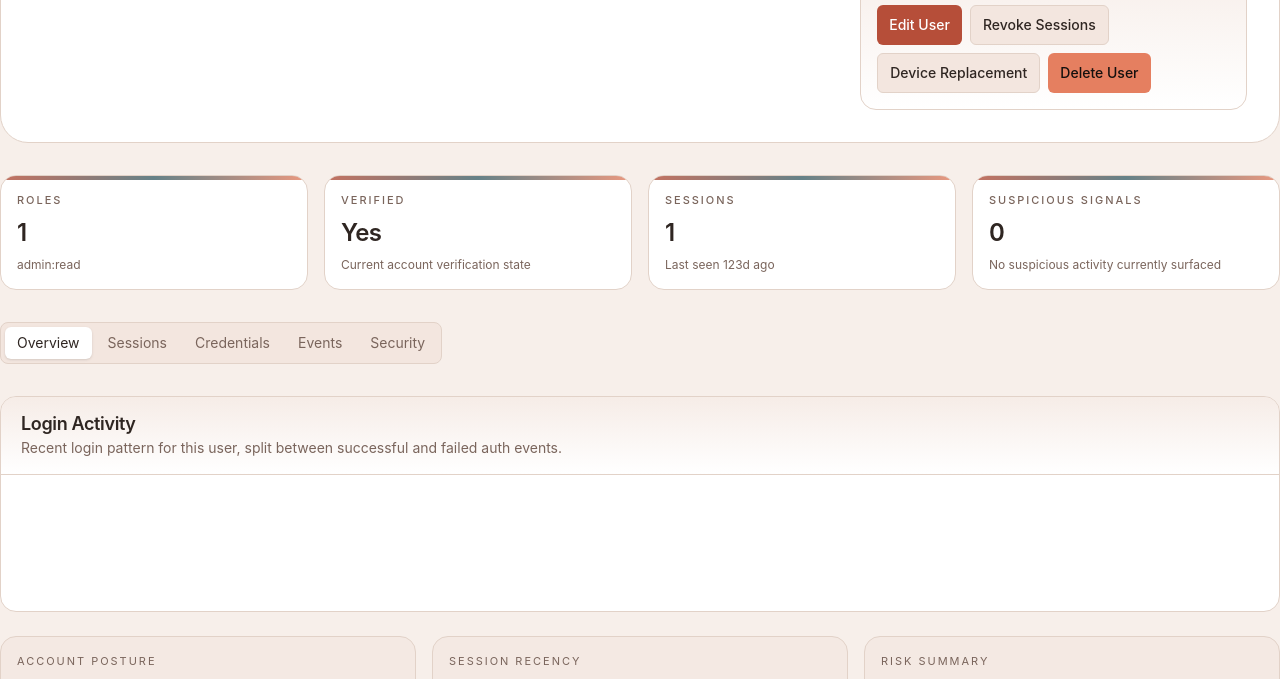
Test: UserDetail › credential inventory › falls back to the device type when no friendly name is set
(page scrolled)
What coordinates should you click on to do the following:
click the tab "Credentials"
I would click on:
 (232, 342)
Its box is [183,326,282,358].
(page scrolled)
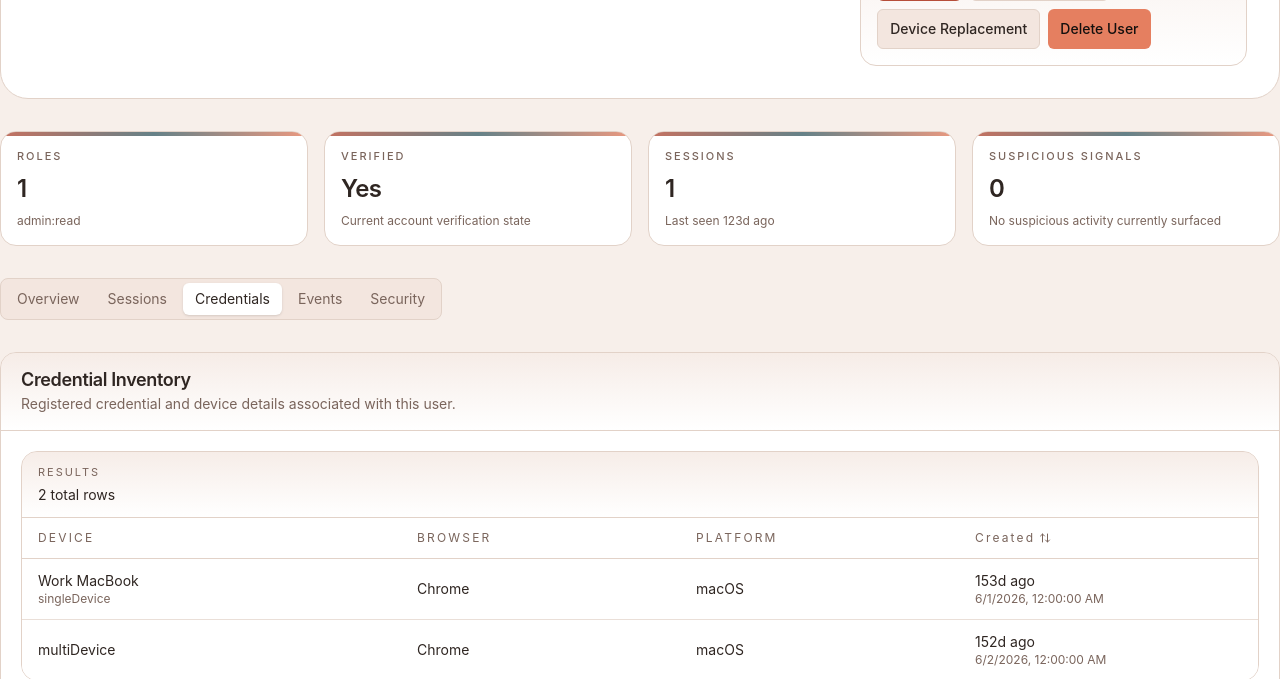
Result: the cell "multiDevice" is shown at [38,641,116,658]
